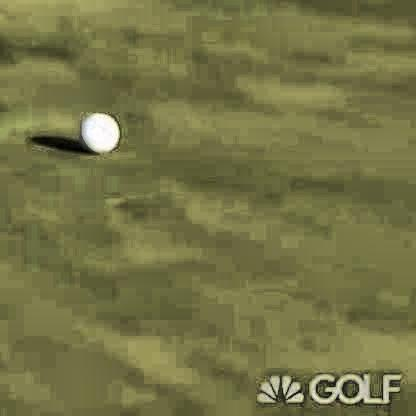golfball: (79, 110, 118, 152)
